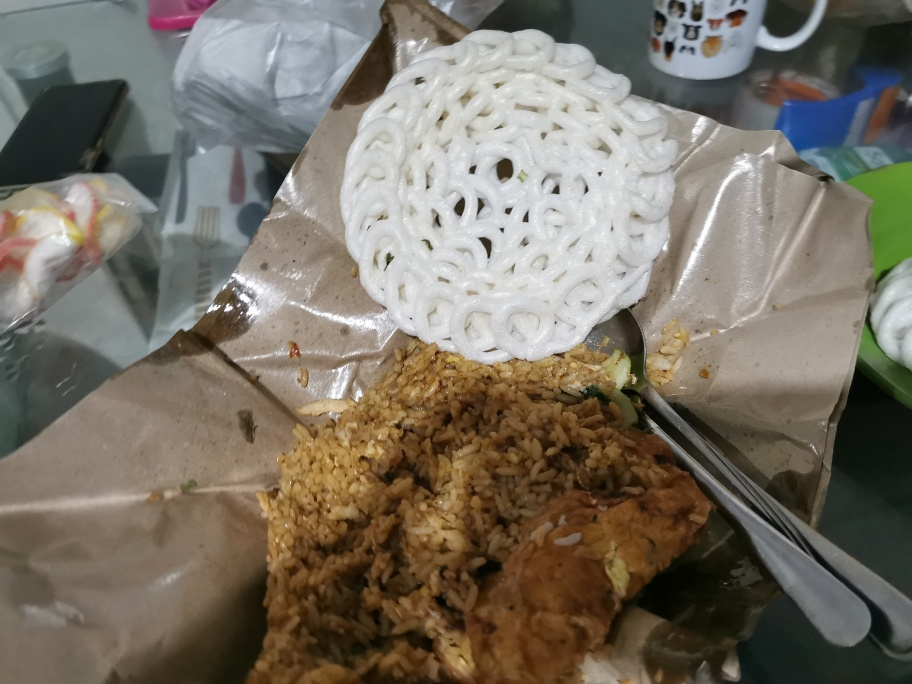kerupuk: (342, 29, 678, 343)
nasi goreng: (248, 343, 710, 682)
